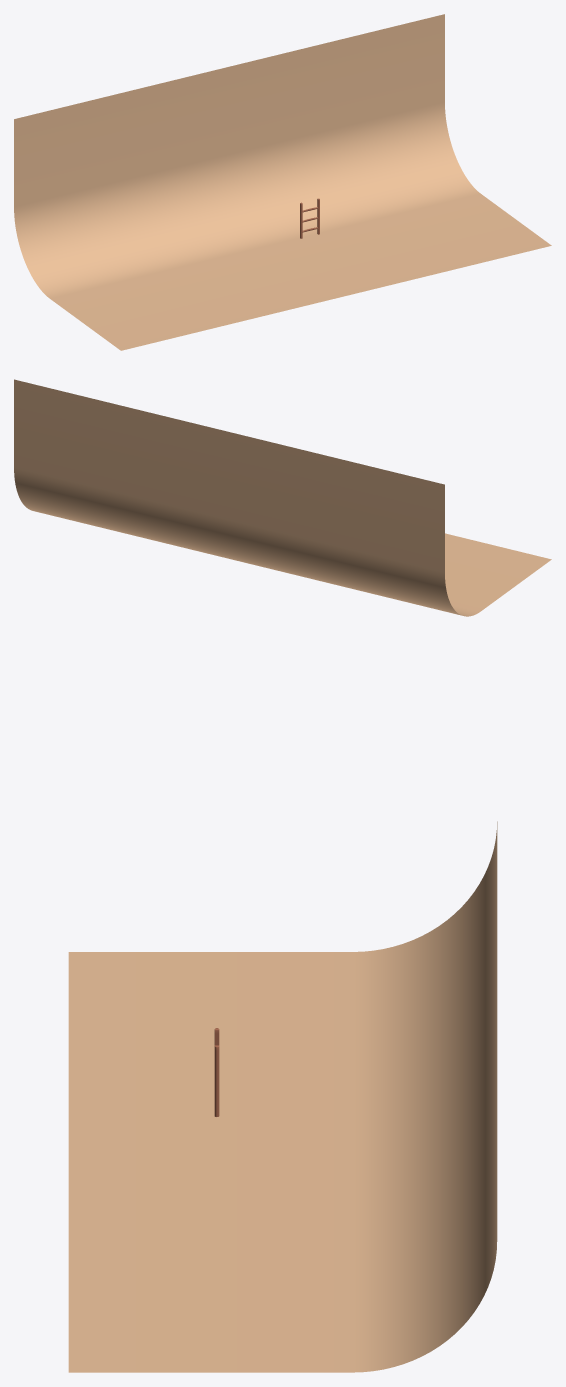
Rendered from Chopped Ladder 1.fbx.
The picture shows the model from 3 angles, top to bottom: view 1: azimuth 30°, elevation 25°; view 2: azimuth 150°, elevation 25°; view 3: azimuth 270°, elevation 25°; orthographic projection. The views are drawn at different scales.
Visible parts, largest first — view 1: Plane; view 2: Plane; view 3: Plane.
Part boxes in pixels (x1,y1,x2,y2): Plane: [14, 14, 551, 350]; Plane: [14, 379, 551, 616]; Plane: [68, 821, 497, 1372].
Size of the model in its own units: 2153 by 732 by 927.
